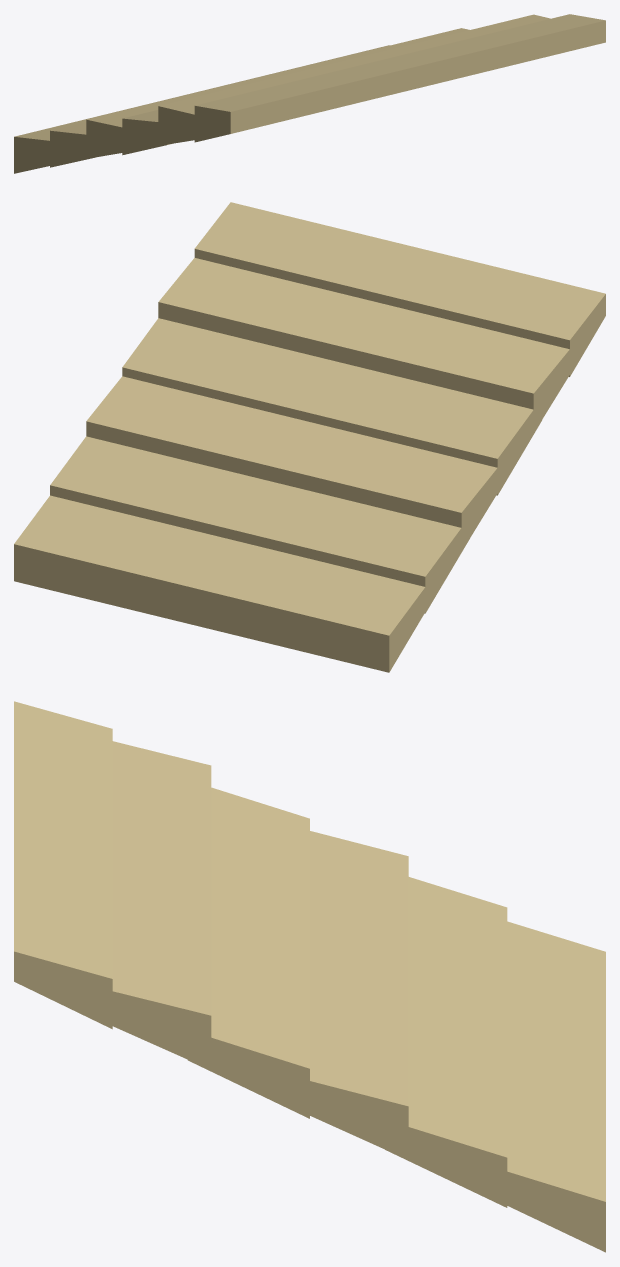
File: thatch_roof_slope_low.glb
3 views of the same model, one above another, from view 1: azimuth 30°, elevation 25°; view 2: azimuth 150°, elevation 25°; view 3: azimuth 270°, elevation 25° (orthographic). The views are drawn at different scales.
Visible parts, largest first — view 1: Roof; view 2: Roof; view 3: Roof.
Part boxes in pixels (left/top/right/bottom): Roof: left=14, top=14, right=605, bottom=173; Roof: left=14, top=202, right=605, bottom=672; Roof: left=14, top=701, right=605, bottom=1252.
Size of the model in its own units: 3 by 1.68 by 3.
